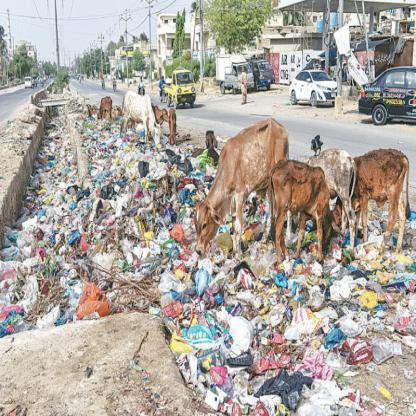Garbage: (164, 250, 416, 416), (19, 94, 199, 312)
